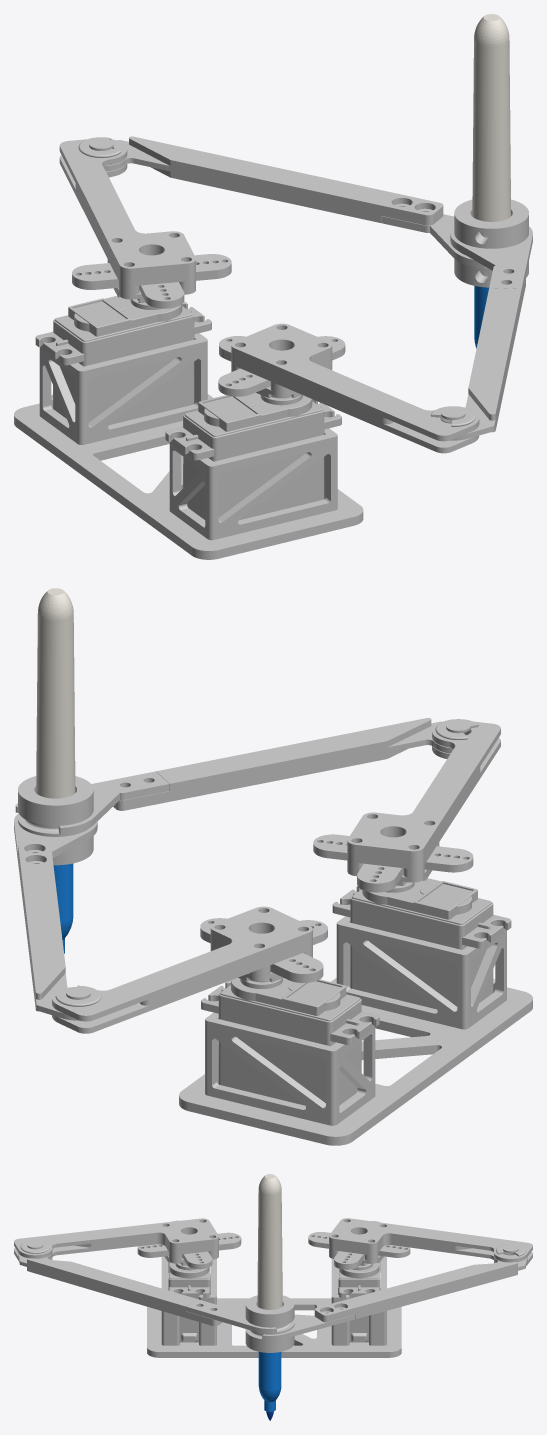
Rendered from draw_bot.glb.
3 views of the same model, one above another, from view 1: azimuth 30°, elevation 25°; view 2: azimuth 150°, elevation 25°; view 3: azimuth 270°, elevation 25° (orthographic). The views are drawn at different scales.
Parts seen in each view (by area): view 1: Node1, Node2, Node3; view 2: Node1, Node2, Node3, Node4; view 3: Node1, Node2, Node3, Node4.
Boxes of the visible parts, x1,y1,x2,y2 form: Node1: (14, 136, 532, 559); Node2: (35, 296, 341, 520); Node3: (472, 14, 511, 276); Node1: (14, 718, 532, 1145); Node2: (201, 878, 511, 1105); Node3: (36, 588, 75, 798); Node4: (53, 863, 73, 953); Node1: (14, 1218, 532, 1357); Node2: (168, 1262, 380, 1342); Node3: (257, 1174, 282, 1309); Node4: (258, 1352, 281, 1411).
Bounding box in the file's own units: 149 × 130 × 244.
